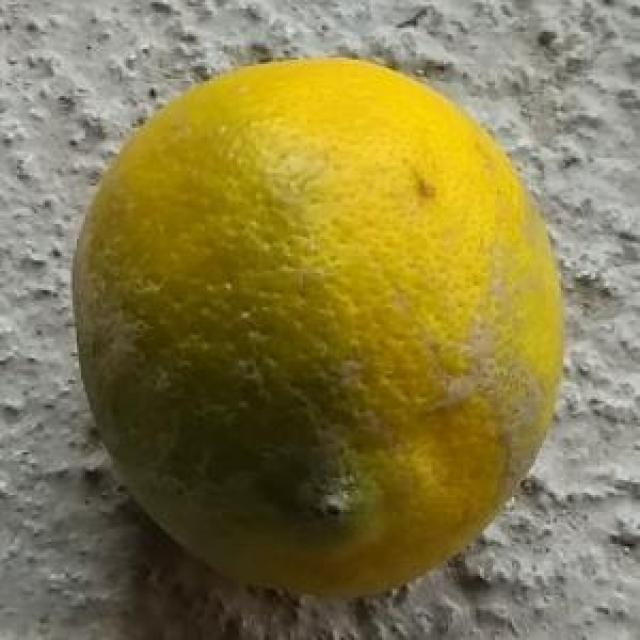lemon: (72, 58, 570, 596)
